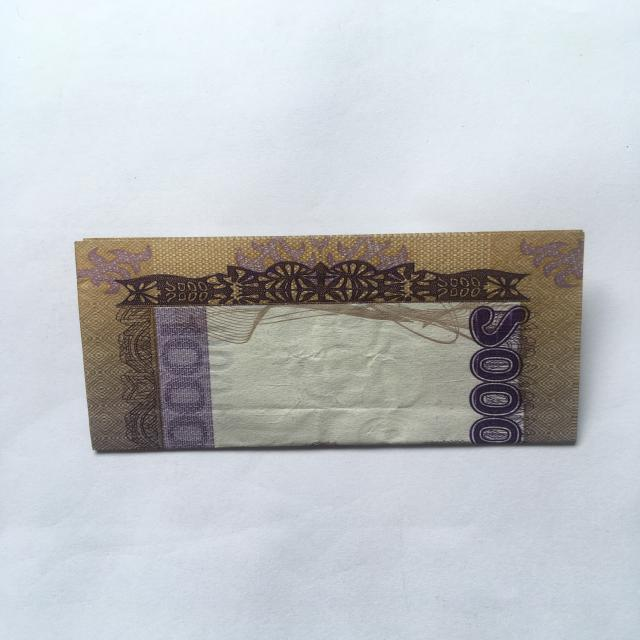Taka: (73, 219, 587, 457)
